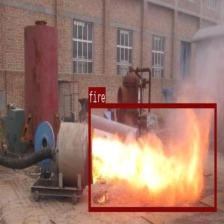fire: (88, 104, 216, 210)
